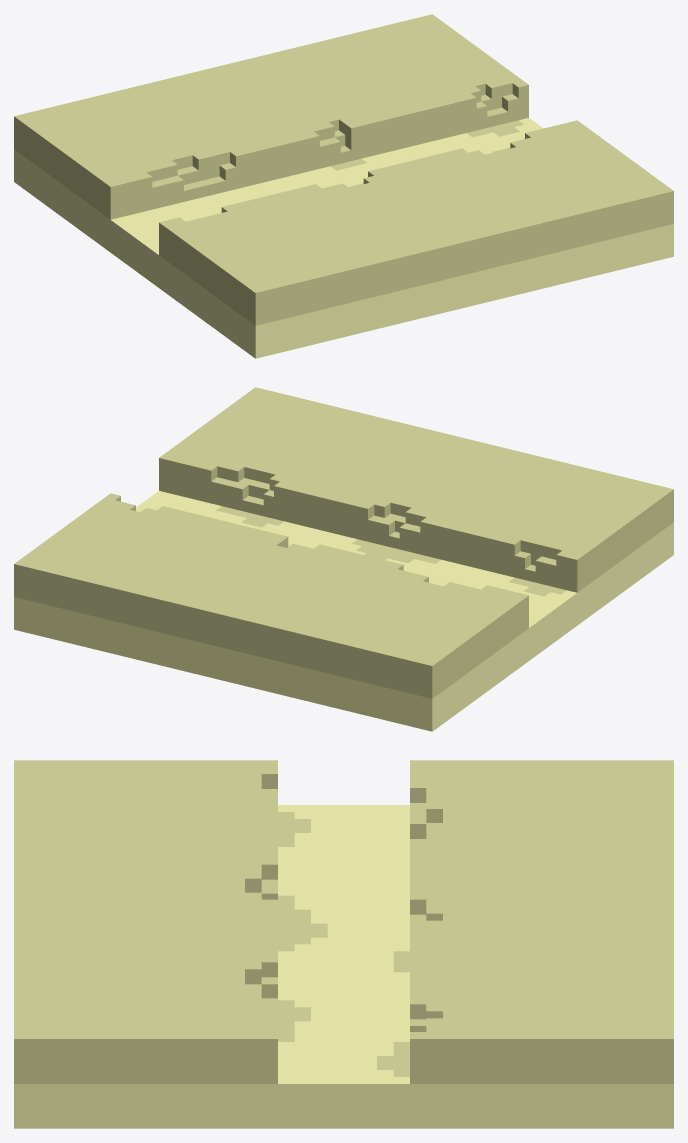
Rendered from Straight Path Desert Tile 1.obj.
The picture shows the model from 3 angles, top to bottom: view 1: azimuth 30°, elevation 25°; view 2: azimuth 150°, elevation 25°; view 3: azimuth 270°, elevation 25°; orthographic projection. The views are drawn at different scales.
Size of the model in its own units: 8 by 1.2 by 8.
1 material, 1 textured.
